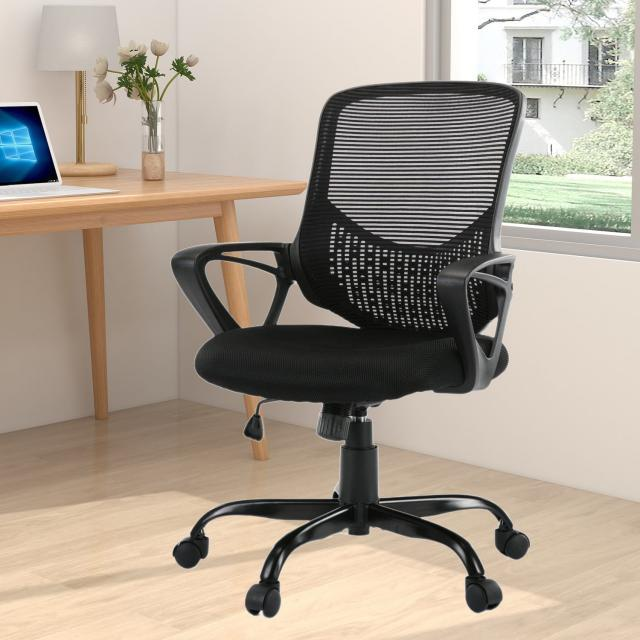chair: (172, 78, 537, 626)
